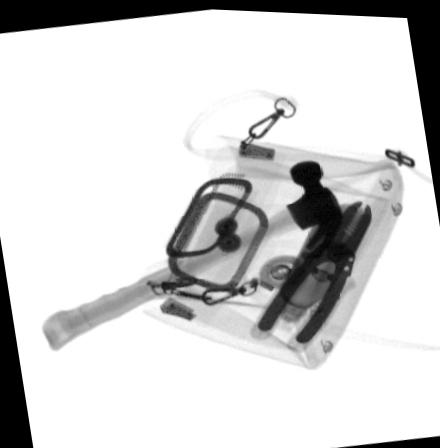Hammer: (39, 155, 341, 351)
Pliers: (248, 196, 372, 348)
